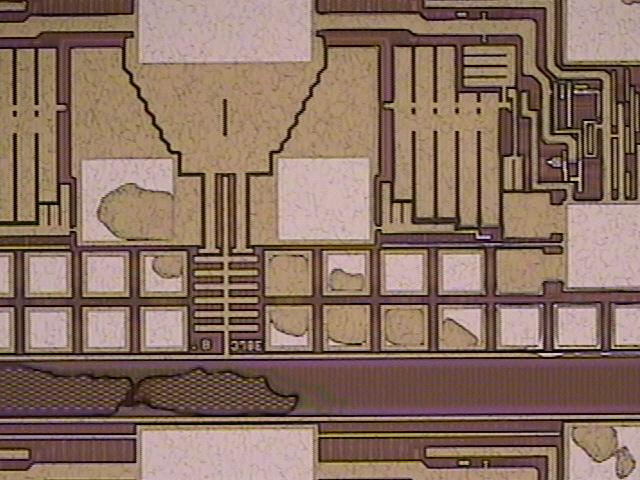COATING BAD: (1, 183, 636, 480)
